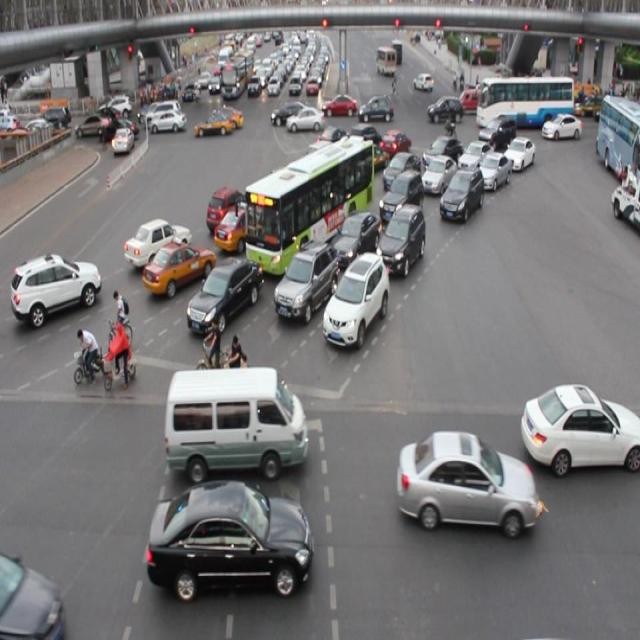car: (147, 479, 311, 597), (394, 427, 534, 528), (520, 384, 640, 471), (11, 250, 101, 326), (322, 251, 388, 346), (0, 550, 64, 640), (273, 239, 335, 318), (188, 260, 260, 324), (124, 216, 192, 268), (143, 240, 216, 286), (378, 203, 424, 272), (328, 210, 381, 266), (212, 202, 270, 252), (438, 164, 481, 220), (378, 168, 422, 220), (206, 185, 255, 231), (260, 166, 308, 210), (271, 186, 317, 222), (318, 160, 362, 196), (422, 136, 463, 173), (382, 150, 418, 190), (478, 117, 514, 154), (420, 156, 454, 194), (458, 140, 492, 176), (478, 153, 509, 190), (346, 124, 380, 157), (502, 135, 533, 171), (353, 141, 388, 172), (379, 128, 409, 160), (316, 125, 347, 152)
truck: (164, 367, 306, 471), (301, 139, 342, 181)
van: (245, 144, 372, 274)
